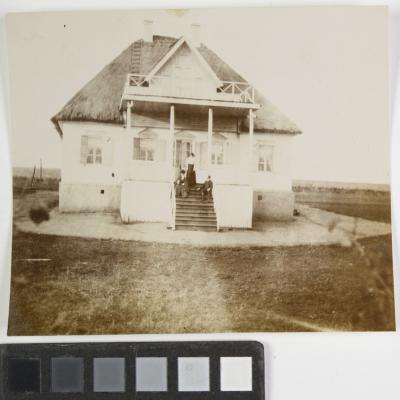photos_negatives: (10, 17, 397, 330)
